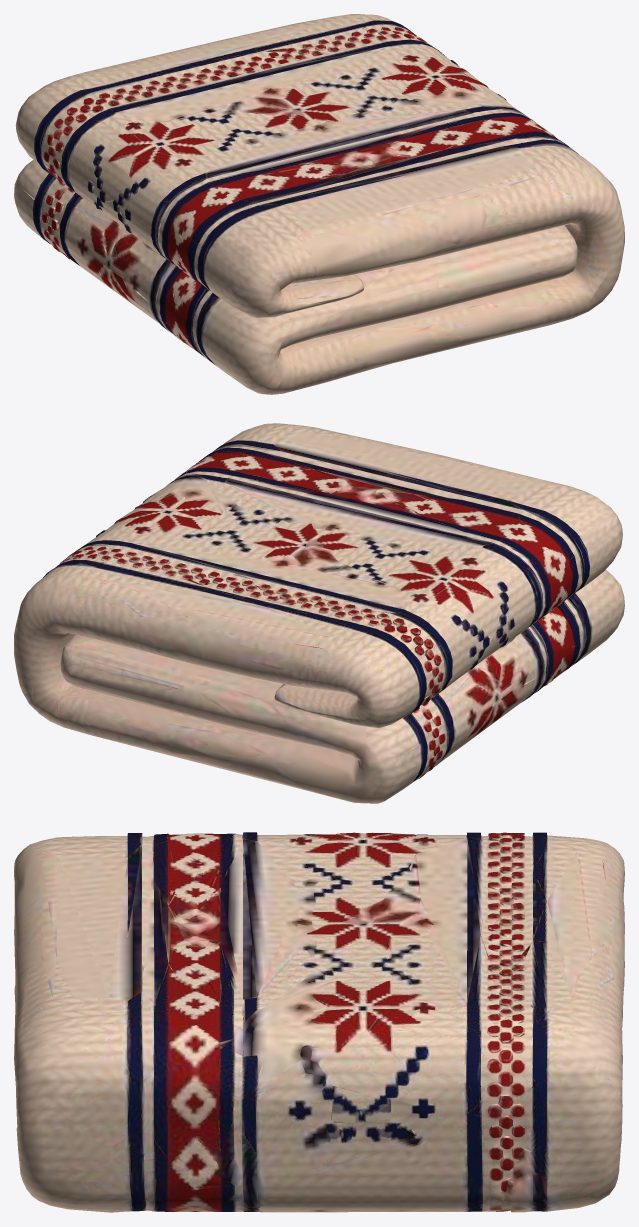
Rendered from blanket.glb.
3 views of the same model, one above another, from view 1: azimuth 30°, elevation 25°; view 2: azimuth 150°, elevation 25°; view 3: azimuth 270°, elevation 25° (orthographic). The views are drawn at different scales.
Bounding box in the file's own units: 1.73 × 0.6692 × 1.9.
Materials: 1 (1 with a texture image).
